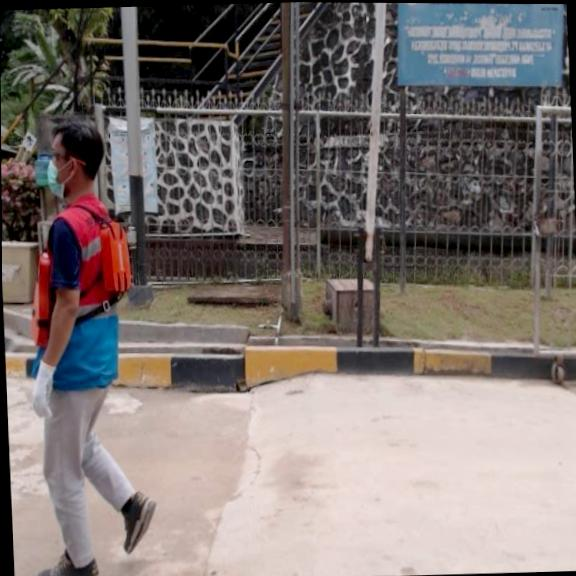safety_vest: (25, 218, 134, 352)
